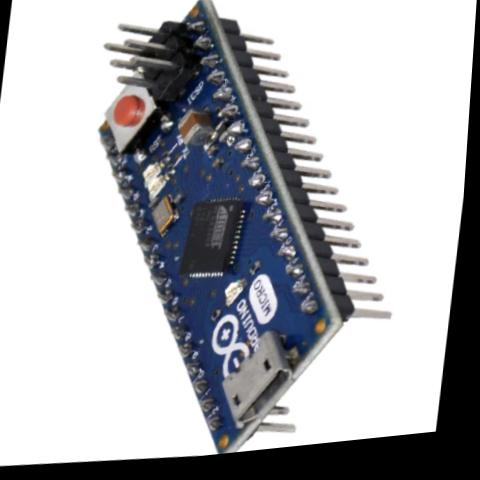Arduino-Micro: (48, 0, 438, 474)
